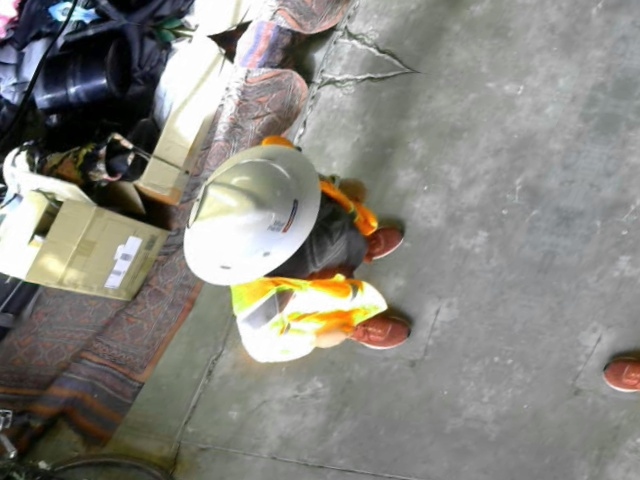one: (179, 182, 208, 228)
